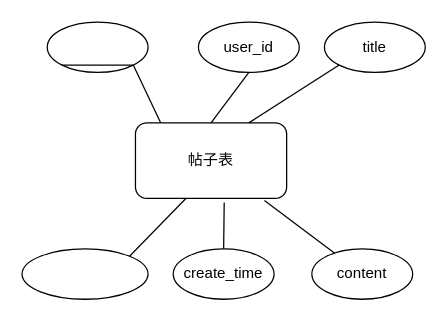
The diagram is 447 pixels wide and 321 high, and some of its shapes have lost their labels. Each missing label, with the box of its shape:
comment_count: (21, 248, 148, 299)
id: (46, 21, 148, 72)
